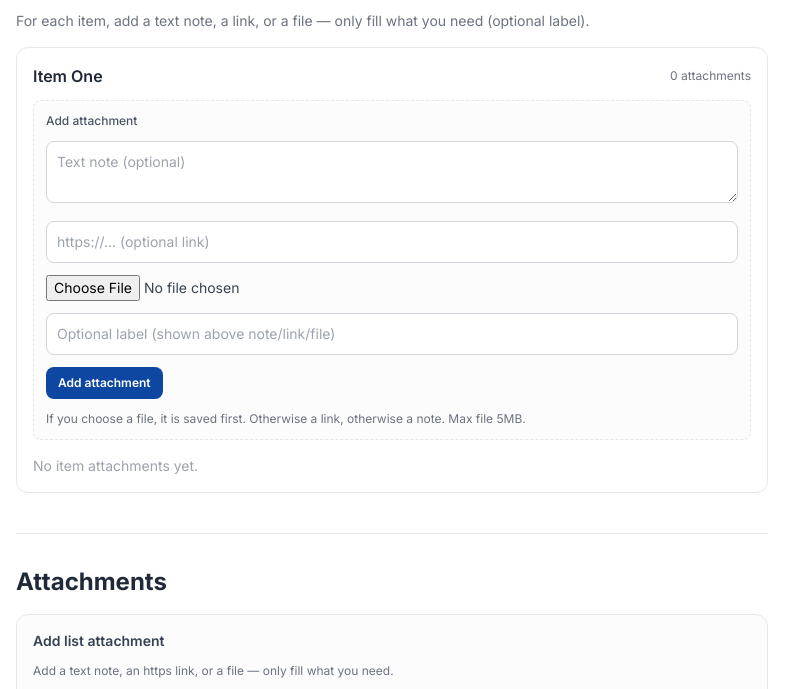
it: ListDetail › creates an item-level link attachment for owner
The width and height of the screenshot is (785, 689).
(page scrolled)
Type "Item Source" into the field with placeholder "Optional label (shown above note/link/file)" at (392, 334), box [46,313,738,355]
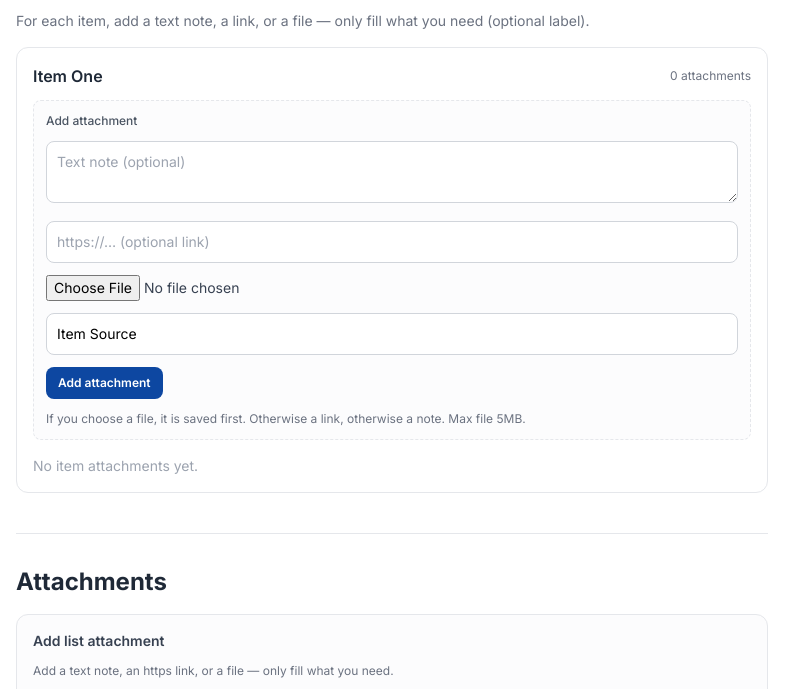
Type "https://example.com/item-source" into the field with placeholder "https://… (optional link)" at (392, 242), box [46,221,738,263]
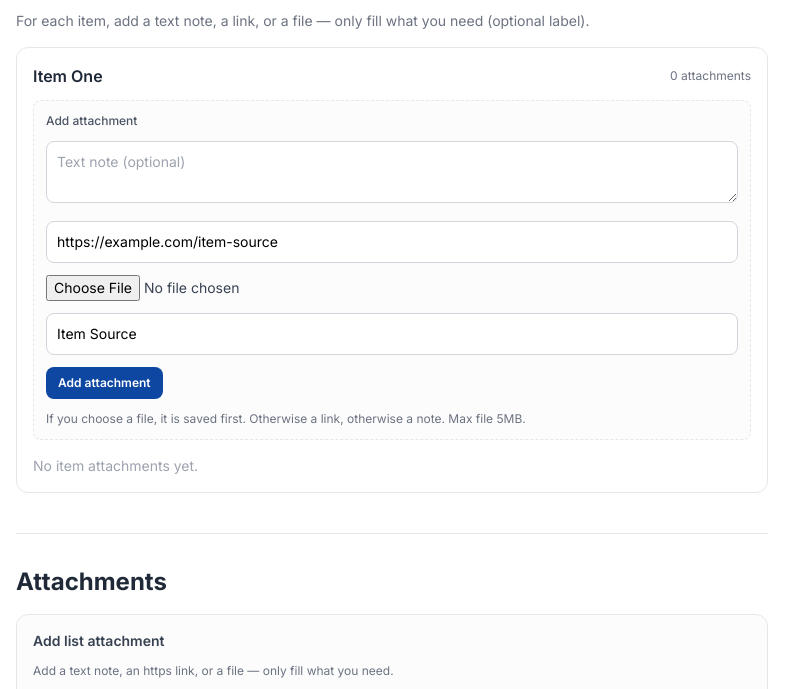
Click the button "Add attachment" at (104, 383), box [46,367,163,399]
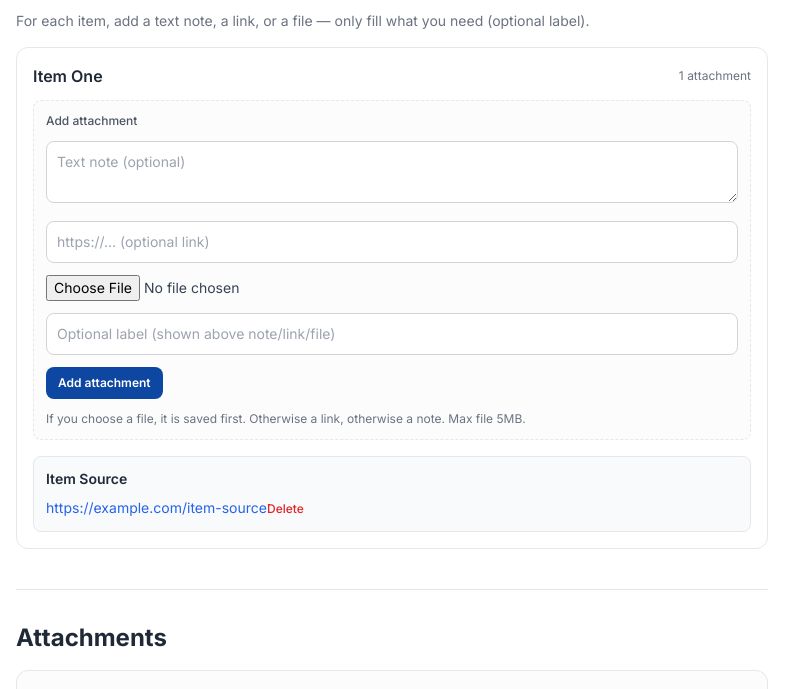
Now the text "Item Source" is shown, box [46,470,127,487]
